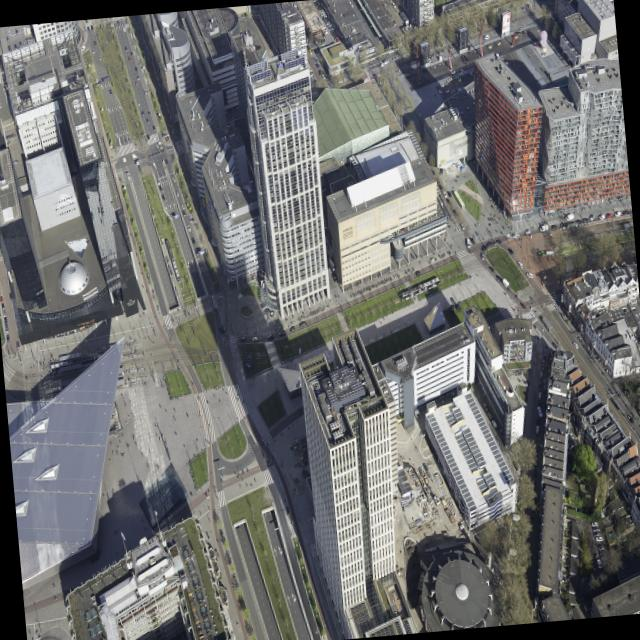large-vehicle: (400, 276, 441, 301), (165, 239, 181, 283), (537, 249, 554, 257)
small-vehicle: (501, 277, 512, 292), (595, 554, 602, 569), (439, 497, 447, 508), (626, 413, 634, 423), (536, 406, 543, 417), (539, 224, 548, 232), (565, 213, 574, 221), (218, 323, 224, 334), (263, 307, 270, 316), (491, 419, 497, 429), (552, 342, 559, 350), (589, 585, 597, 592), (332, 272, 337, 283), (482, 402, 488, 411), (579, 588, 585, 597), (584, 576, 593, 582), (486, 241, 493, 248), (520, 302, 527, 309), (526, 271, 533, 278), (511, 525, 518, 532), (157, 141, 163, 149), (278, 330, 286, 336), (453, 209, 459, 217), (496, 274, 502, 282), (517, 260, 523, 268), (598, 550, 606, 556), (572, 341, 578, 349), (423, 463, 428, 472), (299, 321, 306, 327), (289, 326, 296, 332), (383, 58, 389, 65), (489, 266, 495, 273), (483, 34, 490, 40), (481, 245, 487, 252), (511, 530, 518, 536), (589, 214, 595, 221), (608, 388, 614, 395), (598, 545, 605, 551), (4, 323, 8, 333), (269, 309, 274, 317), (470, 237, 475, 245), (435, 177, 440, 185), (447, 190, 452, 198), (442, 190, 447, 198), (487, 411, 492, 419), (635, 336, 640, 344), (592, 527, 600, 532), (593, 531, 601, 536), (595, 536, 603, 541), (80, 44, 85, 52), (12, 159, 18, 165), (415, 270, 421, 276), (496, 238, 502, 244), (535, 425, 539, 434), (511, 535, 517, 541), (532, 466, 536, 475), (599, 214, 605, 220), (238, 336, 245, 341), (186, 224, 191, 231), (194, 248, 199, 255), (267, 334, 274, 339), (303, 39, 308, 46), (315, 62, 320, 69), (431, 169, 436, 176), (524, 229, 531, 234), (508, 247, 513, 254), (601, 555, 608, 560), (591, 521, 598, 526), (441, 400, 446, 407), (614, 211, 621, 216), (2, 309, 6, 317), (1, 302, 5, 310), (537, 399, 541, 407), (531, 479, 535, 487), (181, 210, 186, 216), (252, 336, 258, 341), (320, 12, 326, 17), (326, 23, 332, 28), (321, 74, 326, 80), (460, 223, 465, 229), (467, 238, 470, 248), (606, 213, 612, 218), (583, 218, 589, 223), (576, 219, 582, 224), (560, 222, 566, 227), (623, 210, 629, 215), (7, 44, 11, 51), (191, 237, 195, 244), (268, 43, 272, 50), (199, 262, 203, 269), (213, 307, 217, 314), (146, 133, 150, 140), (164, 158, 168, 165), (156, 177, 160, 184), (158, 184, 162, 191), (161, 193, 165, 200), (188, 215, 192, 222), (306, 44, 310, 51), (439, 184, 443, 191), (108, 88, 112, 95), (536, 416, 539, 425), (330, 29, 335, 34), (324, 18, 329, 23), (328, 25, 333, 30), (331, 31, 336, 36), (332, 33, 337, 38), (348, 85, 353, 90), (473, 158, 478, 163), (552, 224, 557, 229), (9, 292, 12, 300), (4, 316, 7, 324), (6, 334, 9, 342), (16, 341, 19, 349), (147, 110, 151, 116), (152, 125, 156, 131), (175, 190, 179, 196), (86, 26, 90, 32), (313, 0, 319, 4), (315, 4, 321, 8), (308, 49, 312, 55), (392, 2, 396, 8), (333, 36, 339, 40), (511, 233, 517, 237), (539, 380, 542, 388), (538, 392, 541, 400), (481, 252, 484, 260), (568, 221, 574, 225), (124, 46, 128, 52), (136, 100, 140, 106), (93, 40, 97, 46), (0, 296, 3, 303), (146, 117, 149, 124), (243, 12, 247, 17), (241, 13, 245, 18), (255, 18, 259, 23), (264, 35, 268, 40), (314, 2, 319, 6), (317, 6, 322, 10), (318, 8, 323, 12), (322, 14, 327, 18), (323, 16, 328, 20), (325, 21, 330, 25), (338, 79, 343, 83), (127, 56, 131, 61), (134, 66, 138, 71), (134, 81, 138, 86), (8, 30, 11, 36), (14, 43, 17, 49), (22, 149, 25, 155), (141, 110, 144, 116), (266, 39, 269, 45), (15, 28, 18, 34), (90, 24, 93, 30), (98, 55, 101, 61), (320, 10, 324, 14), (336, 38, 340, 42), (343, 77, 347, 81), (122, 27, 126, 31), (19, 41, 22, 46), (6, 36, 9, 41), (116, 20, 119, 25), (130, 51, 133, 56), (136, 75, 139, 80), (91, 48, 94, 53), (337, 40, 341, 43), (319, 70, 321, 75)
